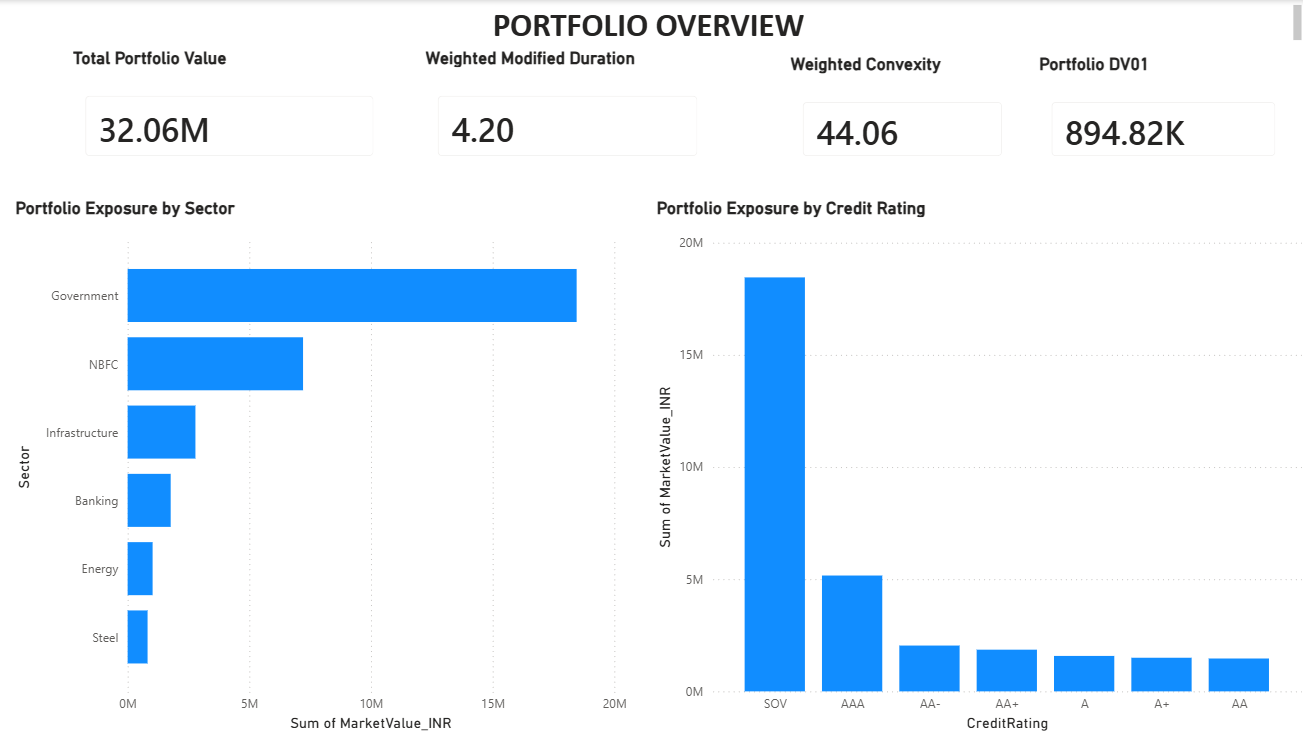

This screenshot's page, from the dashboard's own definition file:
{"tool":"powerbi","page":{"name":"PORTFOLIO OVERVIEW","canvas":[1280,720],"ordinal":0},"visuals":[{"type":"cardVisual","title":"Total Portfolio Value","fields":{"Data":["Sum(portfolio_risk_summary.Value)"]},"box":[68.6,46.7,317,123.5],"z":0},{"type":"cardVisual","title":"Weighted Modified Duration","fields":{"Data":["Sum(portfolio_risk_summary.Value)"]},"box":[413,46.7,288.2,123.5],"z":1000},{"type":"cardVisual","title":"Weighted Convexity","fields":{"Data":["Sum(portfolio_risk_summary.Value)"]},"box":[769.8,52.1,229.2,118],"z":2000},{"type":"cardVisual","title":"Portfolio DV01","fields":{"Data":["Sum(portfolio_risk_summary.Value)"]},"box":[1014.1,52.1,253.9,118],"z":3000},{"type":"textbox","box":[0,0,1280.3,46.7],"z":4000},{"type":"clusteredBarChart","title":"Portfolio Exposure by Sector","fields":{"Category":["sector_risk_analysis.Sector"],"Y":["Sum(sector_risk_analysis.MarketValue_INR)"]},"box":[12.3,193.5,607.9,526.9],"z":5000},{"type":"clusteredColumnChart","title":"Portfolio Exposure by Credit Rating","fields":{"Category":["rating_risk_analysis.CreditRating"],"Y":["Sum(rating_risk_analysis.MarketValue_INR)"]},"box":[639.5,193.5,640.8,526.9],"z":6000}]}

Visuals, with their boxes in screenshot pixels (x1, y1, x2, y2), scaled from the page's 1280x720 canvas onto the 1303x735 screenshot:
"Total Portfolio Value" cardVisual: crop(70, 48, 393, 174)
"Weighted Modified Duration" cardVisual: crop(420, 48, 714, 174)
"Weighted Convexity" cardVisual: crop(784, 53, 1017, 174)
"Portfolio DV01" cardVisual: crop(1032, 53, 1291, 174)
textbox: crop(0, 0, 1302, 48)
"Portfolio Exposure by Sector" clusteredBarChart: crop(13, 198, 631, 734)
"Portfolio Exposure by Credit Rating" clusteredColumnChart: crop(651, 198, 1302, 734)
